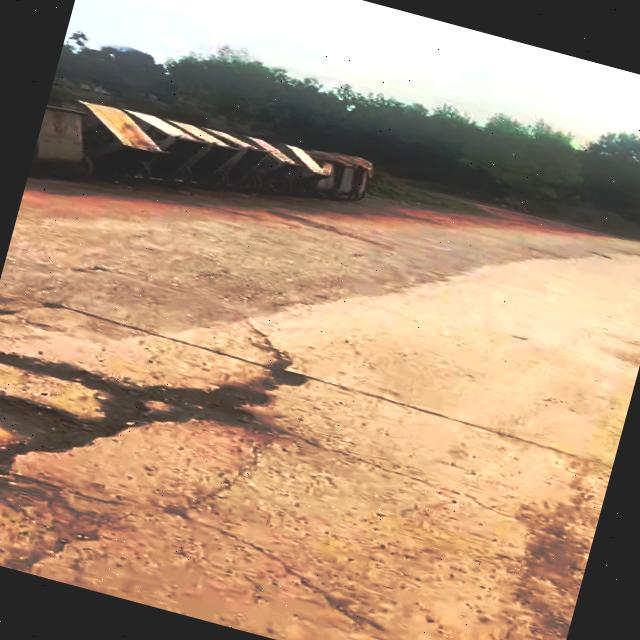pothole: (0, 282, 305, 568)
